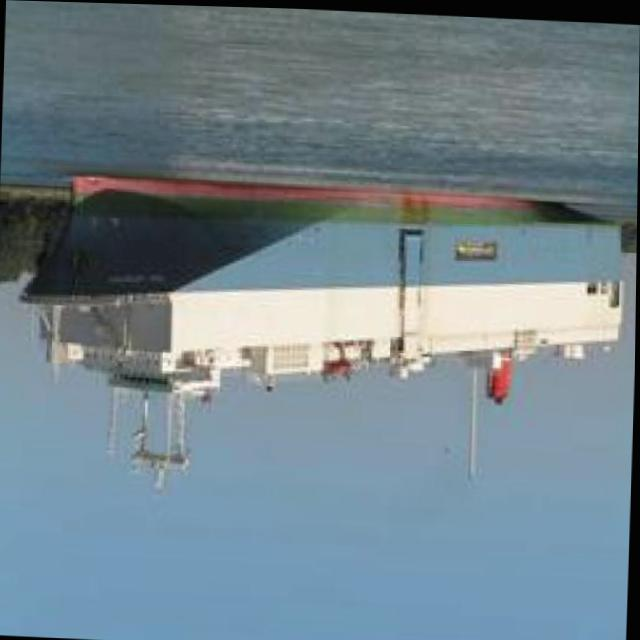ship2: (17, 171, 624, 492)
